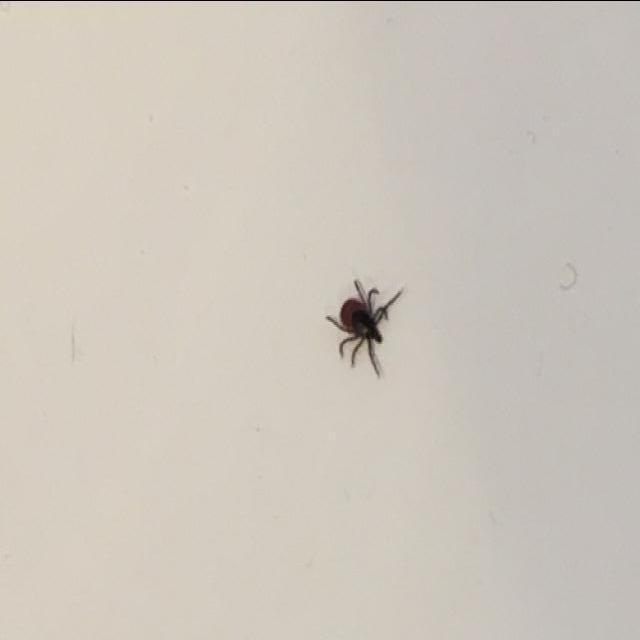Ixodes Ricinus-F: (324, 273, 411, 382)
